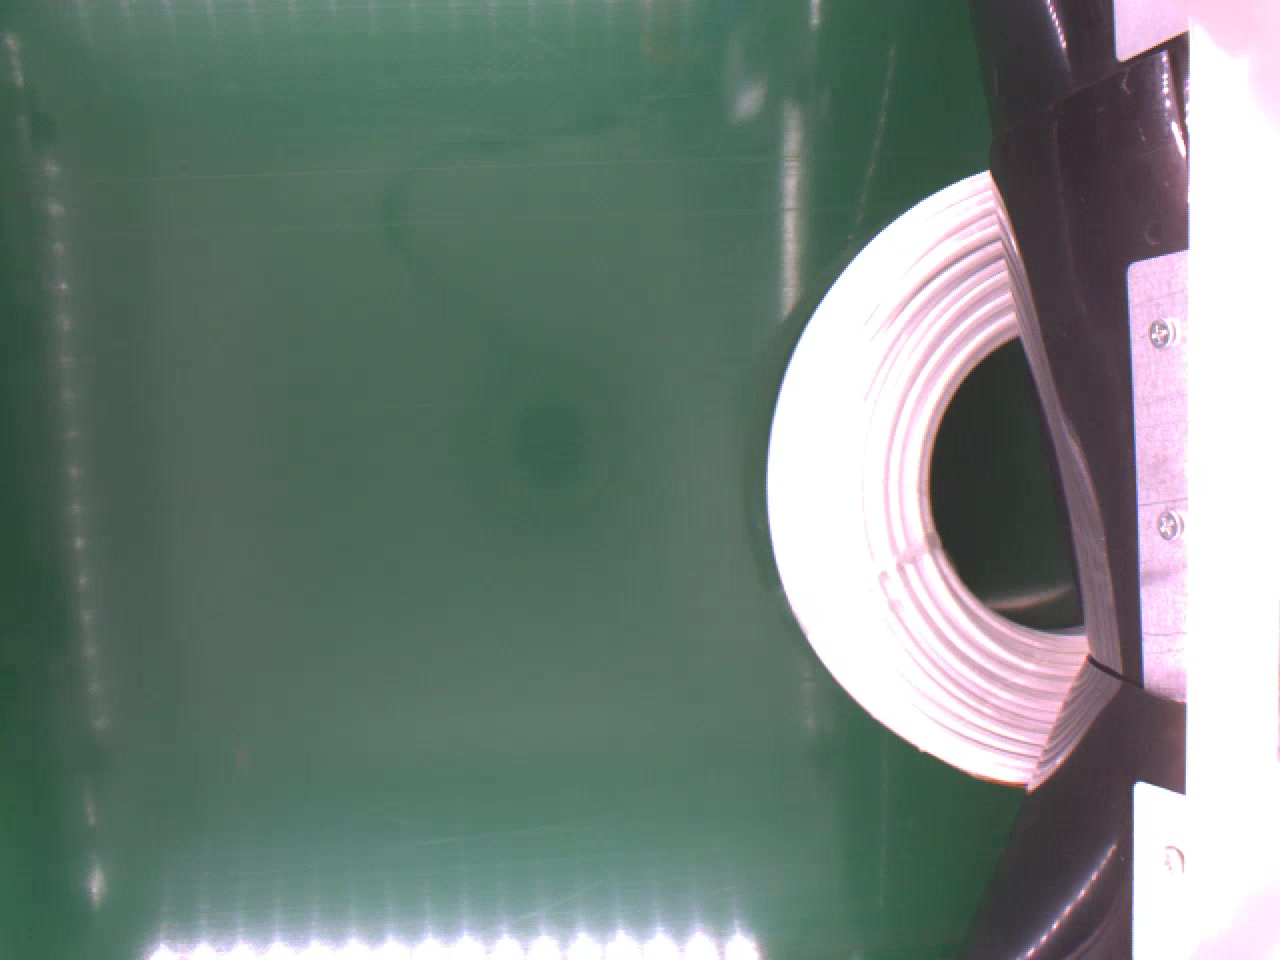white: (763, 168, 1096, 784)
